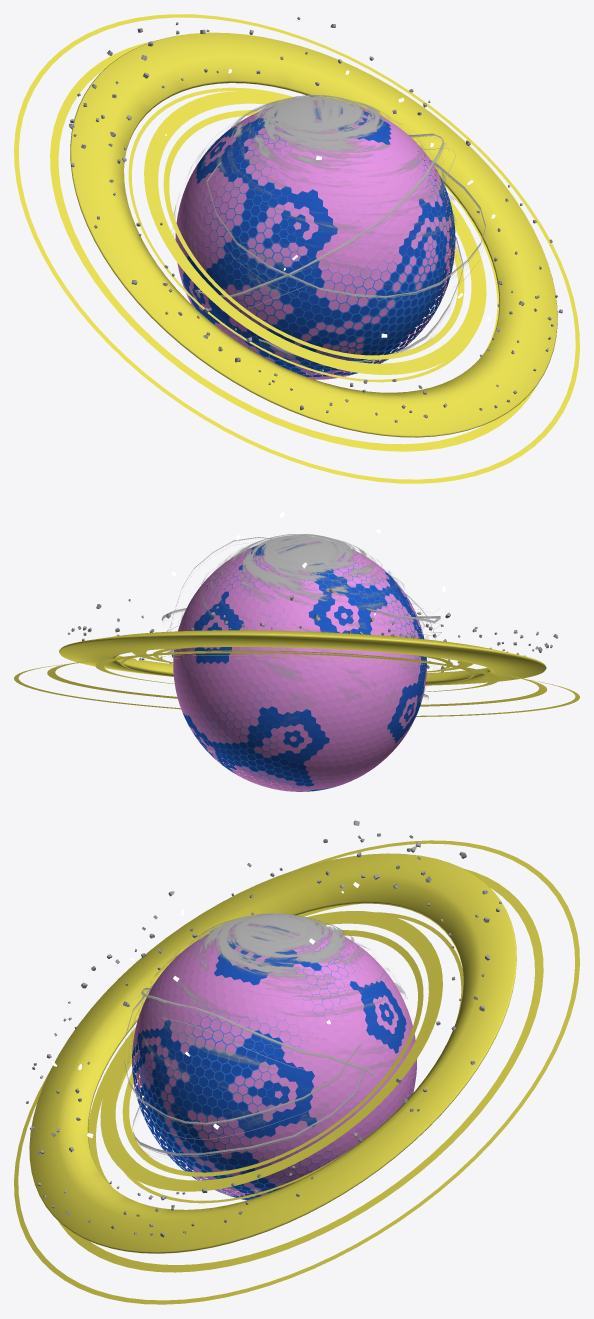
Rendered from planet2.glb.
3 views of the same model, one above another, from view 1: azimuth 30°, elevation 25°; view 2: azimuth 150°, elevation 25°; view 3: azimuth 270°, elevation 25° (orthographic). The views are drawn at different scales.
Visible parts, largest first — view 1: Rings1, Parcels2, Rings2, Clouds, Planet, Plane.003, Plane.008; view 2: Parcels2, Rings1, Clouds, Rings2, Planet, Plane.003; view 3: Rings1, Parcels2, Rings2, Clouds, Planet, Plane.008, Plane.003, Plane.006.
Part boxes in pixels (left/top/right/bottom): Rings1: left=70, top=32, right=557, bottom=437; Parcels2: left=175, top=100, right=455, bottom=379; Rings2: left=14, top=14, right=579, bottom=483; Clouds: left=173, top=95, right=455, bottom=296; Planet: left=198, top=118, right=448, bottom=372; Plane.003: left=206, top=155, right=485, bottom=302; Plane.008: left=194, top=133, right=455, bottom=309; Parcels2: left=173, top=538, right=426, bottom=791; Rings1: left=59, top=630, right=546, bottom=685; Clouds: left=172, top=534, right=427, bottom=721; Rings2: left=14, top=650, right=579, bottom=716; Planet: left=198, top=554, right=420, bottom=785; Plane.003: left=161, top=607, right=441, bottom=636; Rings1: left=29, top=853, right=516, bottom=1253; Parcels2: left=132, top=922, right=416, bottom=1200; Rings2: left=14, top=840, right=579, bottom=1304; Clouds: left=128, top=913, right=407, bottom=1126; Planet: left=138, top=938, right=359, bottom=1195; Plane.008: left=140, top=987, right=375, bottom=1087; Plane.003: left=124, top=981, right=363, bottom=1139; Plane.006: left=132, top=1067, right=365, bottom=1163.
Size of the model in its own units: 4.34 by 2.55 by 3.96.
Materials: 7 (1 with a texture image).
